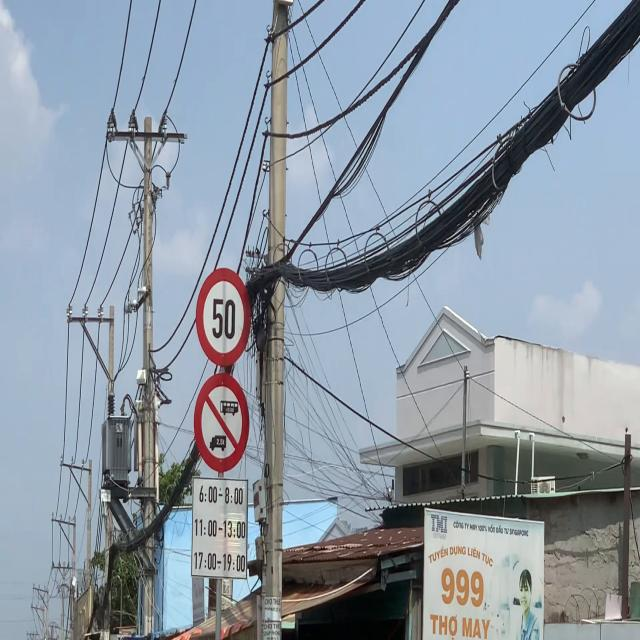Cam con lai: (193, 373, 250, 474)
Toc do toi da: (195, 267, 252, 367)
